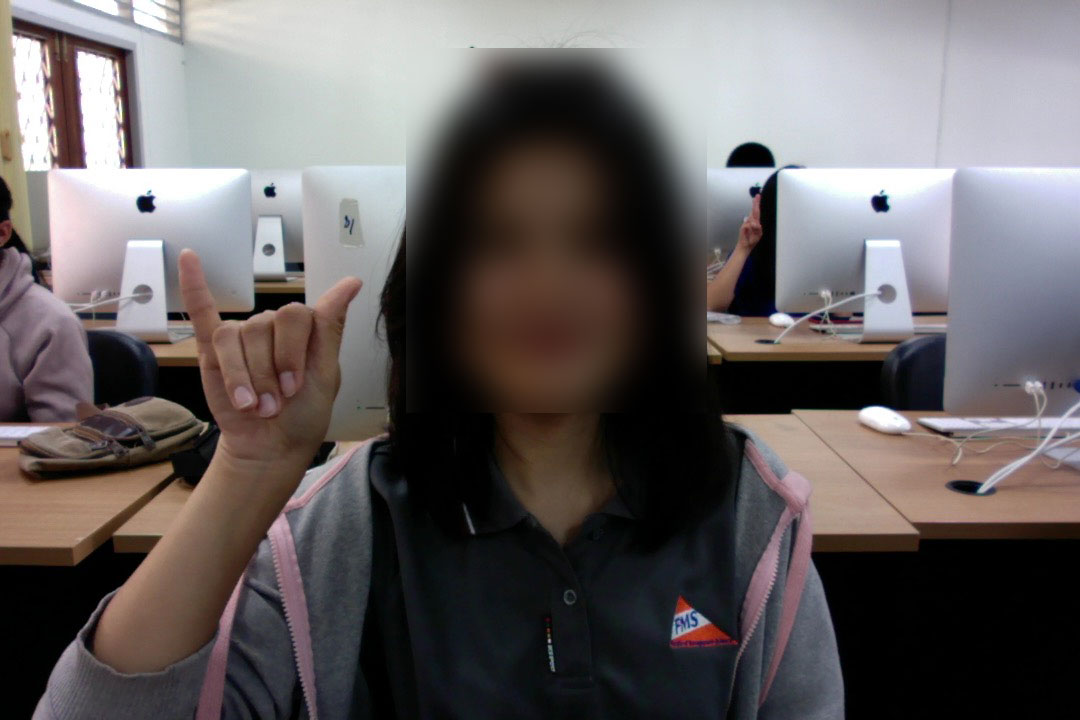yor: (168, 238, 369, 490)
